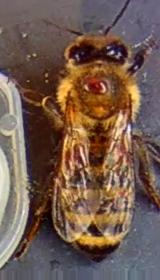varroa_mite: (81, 72, 112, 102)
